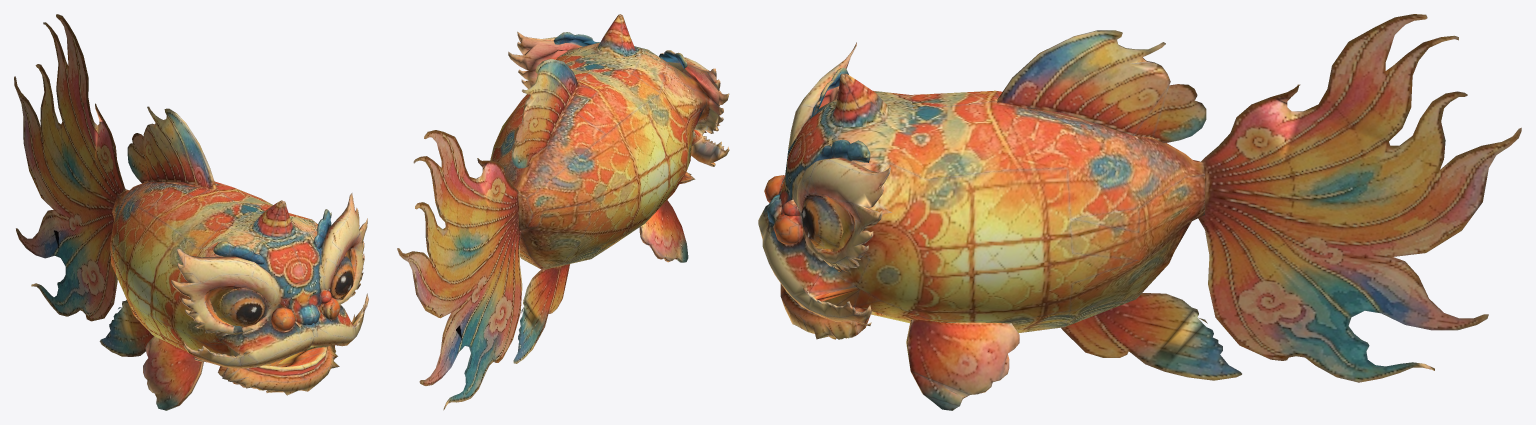
File: 浮金鱼灯.glb
3 renders of one model, left to right at view 1: azimuth 30°, elevation 25°; view 2: azimuth 150°, elevation 25°; view 3: azimuth 270°, elevation 25°, orthographic. The views are drawn at different scales.
Visible parts, largest first — view 1: tripo_node_803c8624-5369-45c4-be38-3252b4f1ec9a; view 2: tripo_node_803c8624-5369-45c4-be38-3252b4f1ec9a; view 3: tripo_node_803c8624-5369-45c4-be38-3252b4f1ec9a.
Boxes of the visible parts, bbox=[...] form: tripo_node_803c8624-5369-45c4-be38-3252b4f1ec9a: bbox=[14, 14, 368, 410]; tripo_node_803c8624-5369-45c4-be38-3252b4f1ec9a: bbox=[397, 14, 729, 410]; tripo_node_803c8624-5369-45c4-be38-3252b4f1ec9a: bbox=[758, 14, 1521, 410].
Bounding box in the file's own units: 0.4355 × 0.5527 × 0.998.
1 material, 1 textured.
